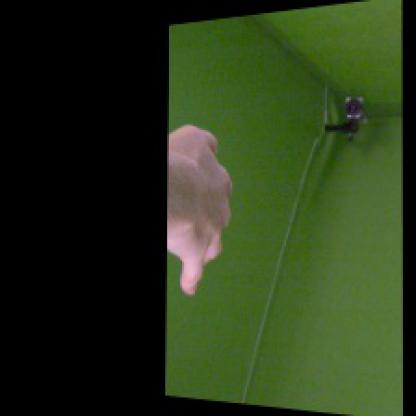Hand: (169, 124, 232, 293)
